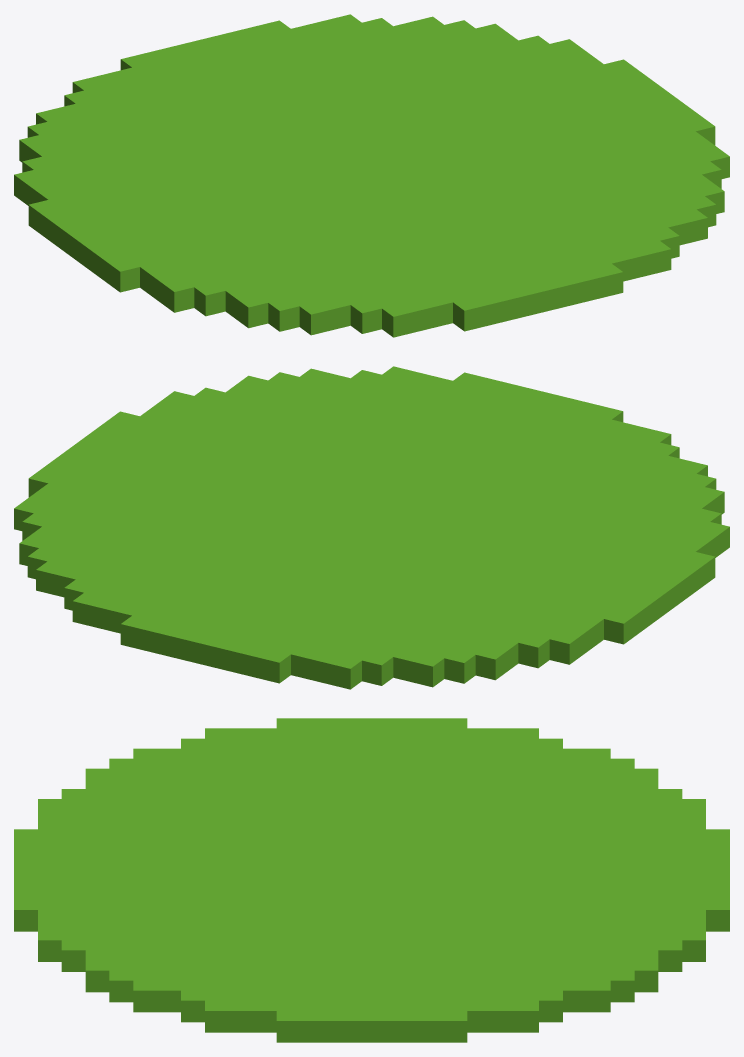
The model's file is ZonaRiesgoVerde.obj.
3 renders of one model, top to bottom at view 1: azimuth 30°, elevation 25°; view 2: azimuth 150°, elevation 25°; view 3: azimuth 270°, elevation 25°, orthographic. The views are drawn at different scales.
Bounding box in the file's own units: 3 × 0.1 × 3.
1 material, 1 textured.
